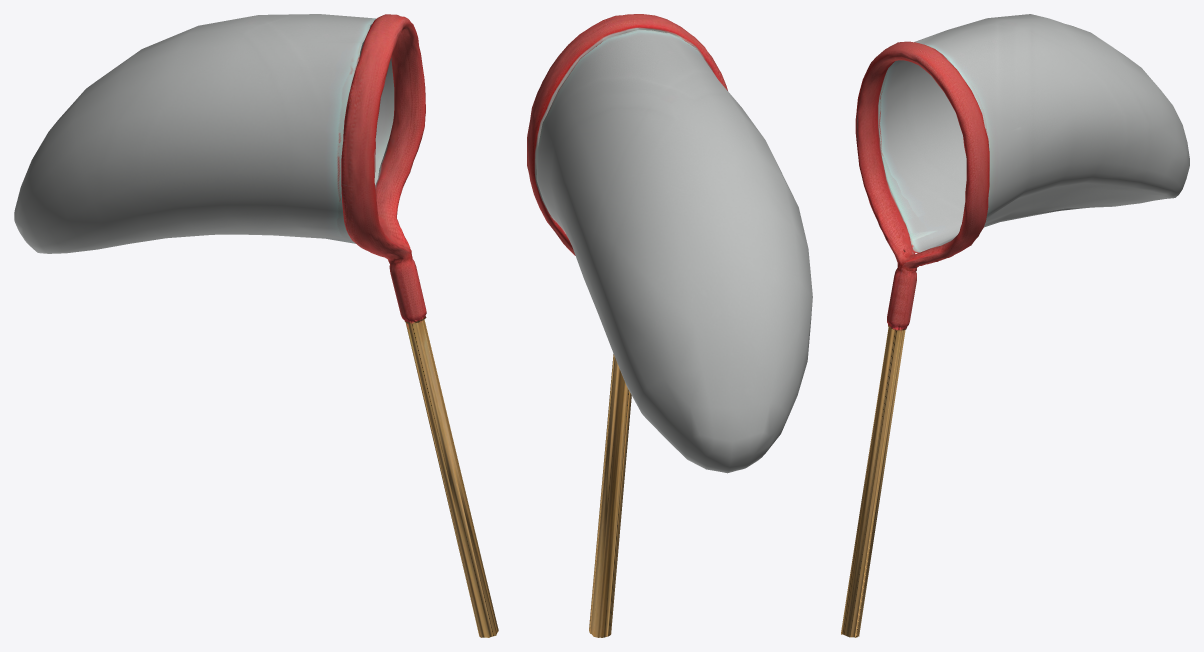
The model's file is net_model.glb.
The picture shows the model from 3 angles, left to right: view 1: azimuth 30°, elevation 25°; view 2: azimuth 150°, elevation 25°; view 3: azimuth 270°, elevation 25°; orthographic projection. The views are drawn at different scales.
Visible parts, largest first — view 1: tripo_node_7ff731a6-5346-4ec4-bc89-7efa001f537f; view 2: tripo_node_7ff731a6-5346-4ec4-bc89-7efa001f537f; view 3: tripo_node_7ff731a6-5346-4ec4-bc89-7efa001f537f.
Part boxes in pixels (left/top/right/bottom): tripo_node_7ff731a6-5346-4ec4-bc89-7efa001f537f: left=14, top=14, right=498, bottom=637; tripo_node_7ff731a6-5346-4ec4-bc89-7efa001f537f: left=527, top=14, right=812, bottom=637; tripo_node_7ff731a6-5346-4ec4-bc89-7efa001f537f: left=841, top=14, right=1189, bottom=637.
Size of the model in its own units: 0.5605 by 0.998 by 0.5645.
Materials: 1 (1 with a texture image).
